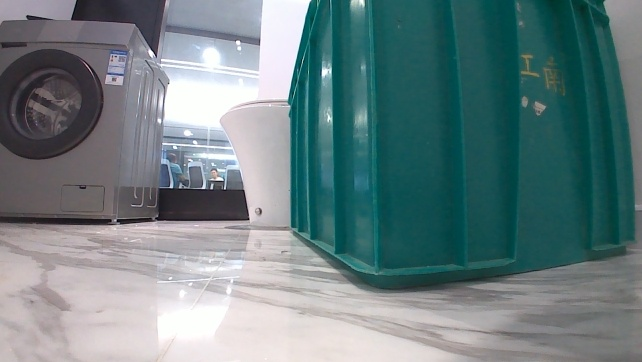toilet: (218, 93, 286, 234)
washing_machine: (2, 16, 174, 221)
